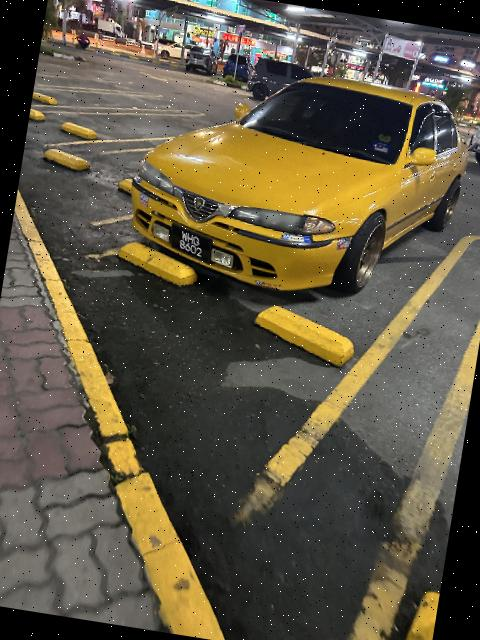License_Plate: (168, 223, 217, 263)
car: (114, 39, 480, 327)
